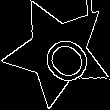O_NW: (24, 19, 91, 85)
